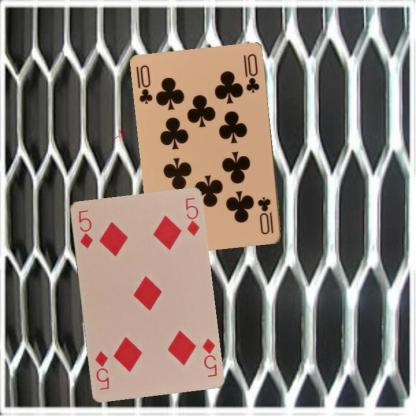10c: (134, 63, 154, 106), (255, 194, 275, 236)
5d: (199, 335, 218, 378), (76, 207, 94, 250)
